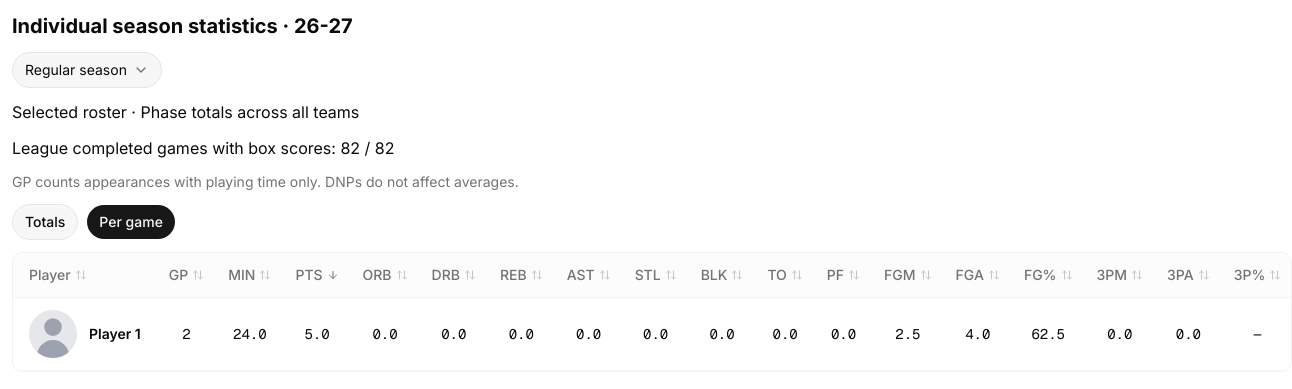
Test: selects separate phases for the roster view: true
Check: the text "League completed games with box scores: 82 / 82" is shown, box [12,138,394,158]
Press Enter in the dropdown named "Competition phase", box [12,52,162,88]
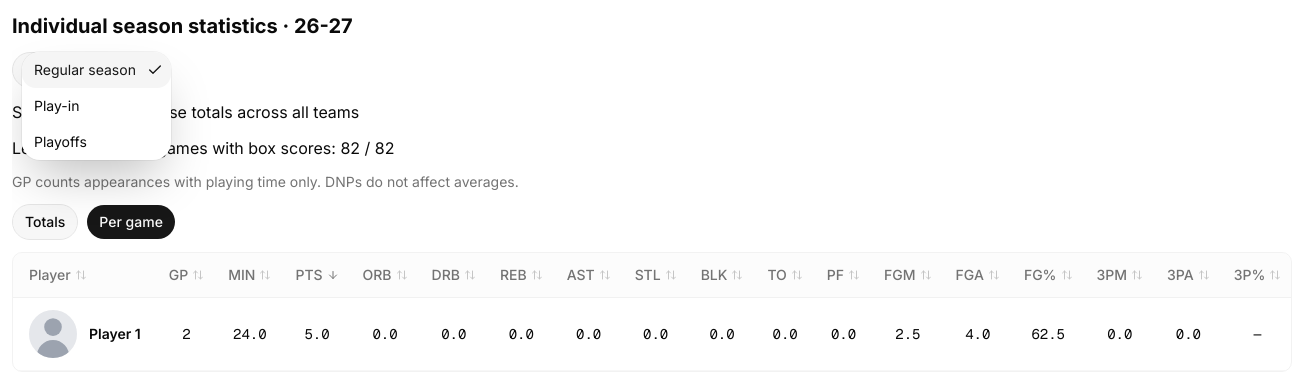
Click the option "Play-in": x=57, y=106 [34,97,79,114]
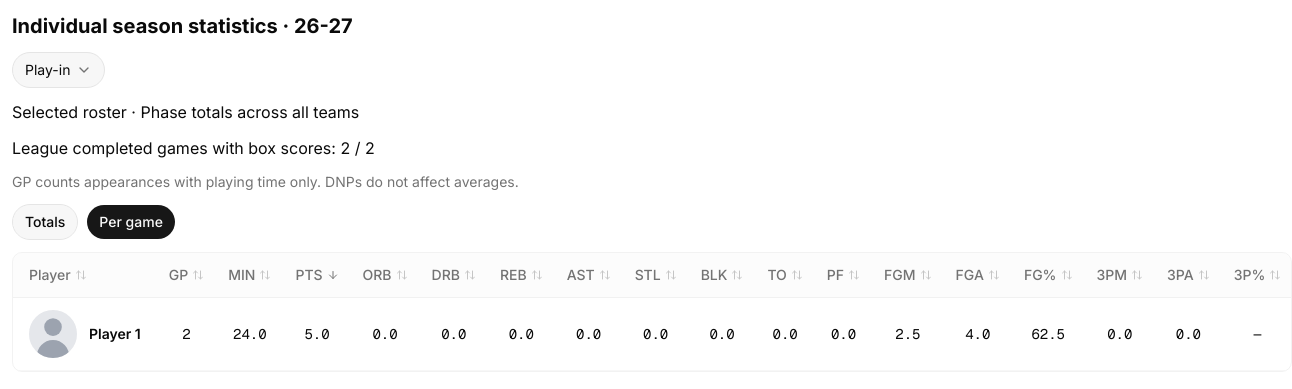
Check: the text "League completed games with box scores: 2 / 2" is shown, box [12,138,375,158]
Press Enter in the dropdown named "Competition phase", box [12,52,105,88]
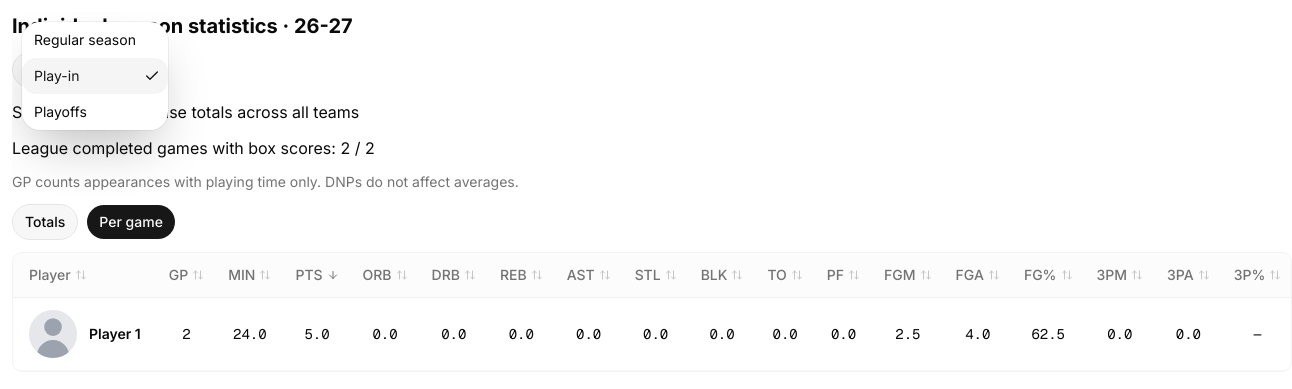
Click the option "Playoffs": x=60, y=112 [34,103,87,120]
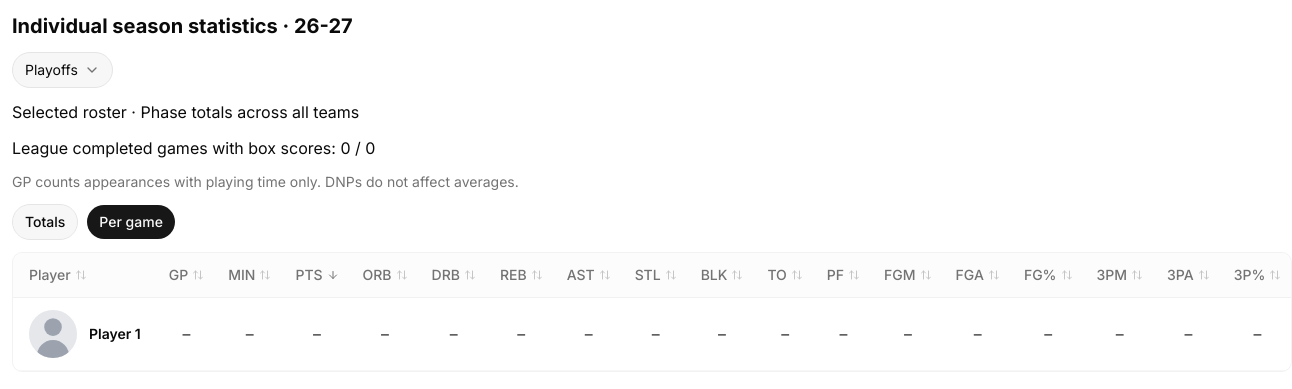
Check: the text "League completed games with box scores: 0 / 0" is shown, box [12,138,375,158]
Press Enter in the dropdown named "Competition phase", box [12,52,113,88]
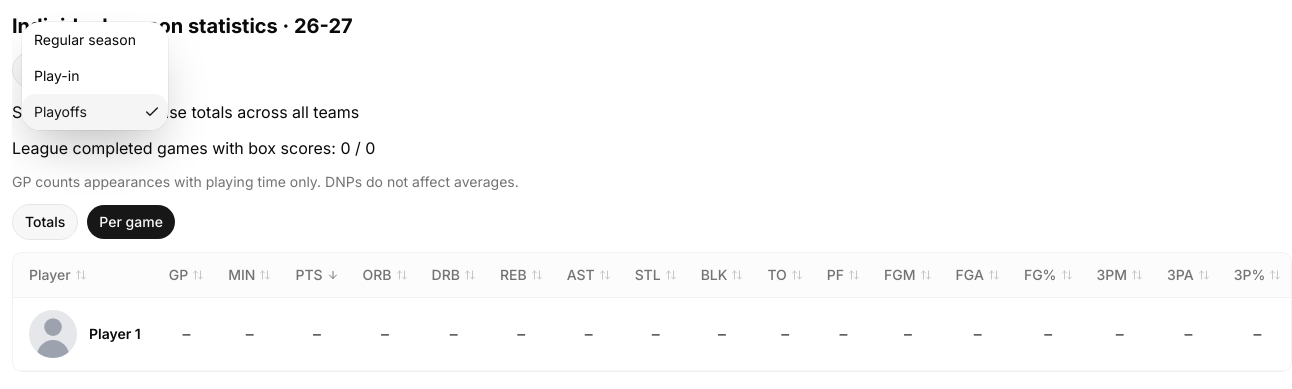
Click the option "Regular season": x=85, y=40 [34,31,136,48]
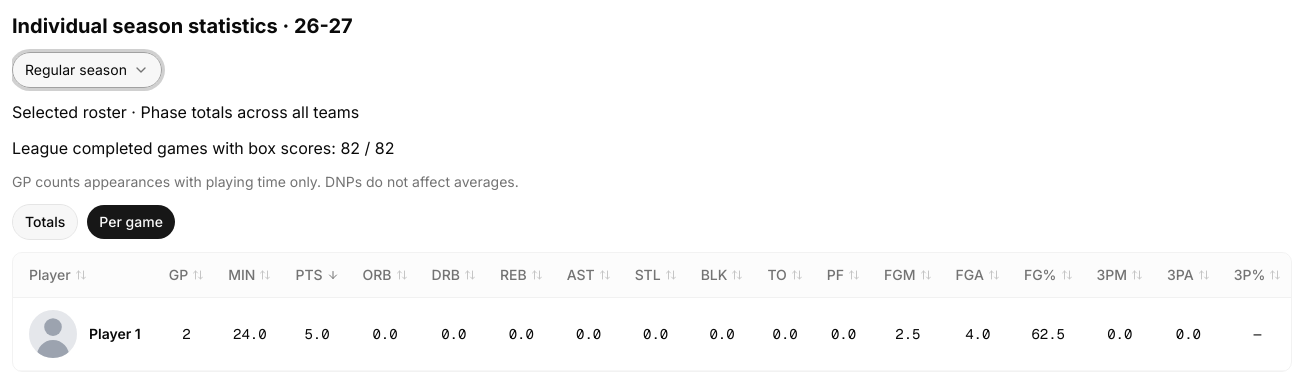
Check: the text "League completed games with box scores: 82 / 82" is shown, box [12,138,394,158]
